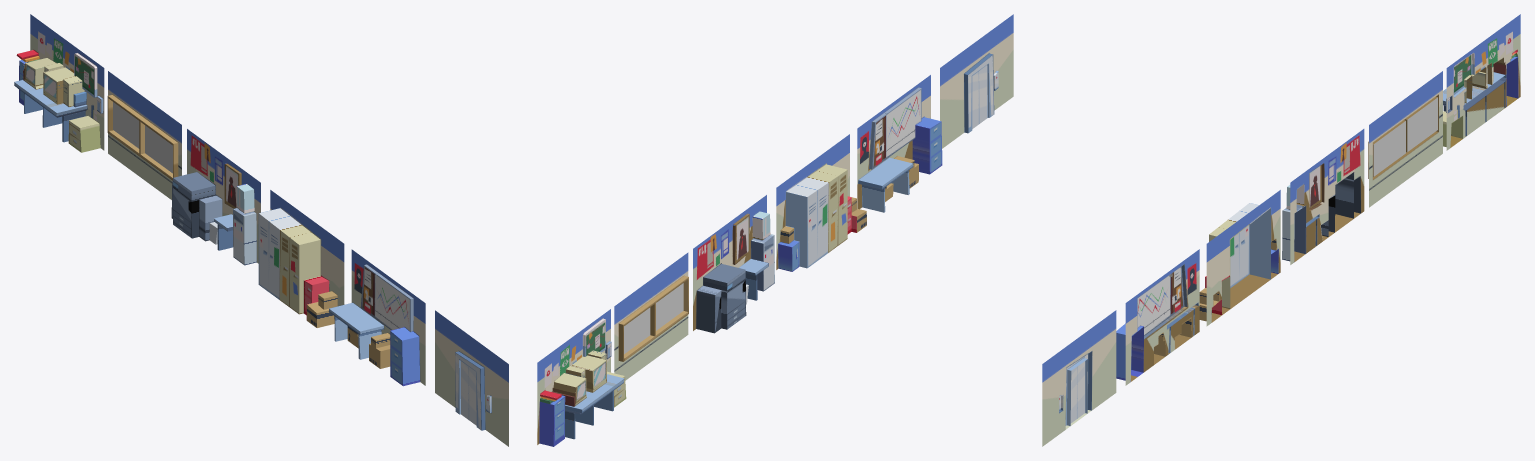
Rendered from office wall 1.fbx.
3 renders of one model, left to right at view 1: azimuth 30°, elevation 25°; view 2: azimuth 150°, elevation 25°; view 3: azimuth 330°, elevation 25°, orthographic.
Parts seen in each view (by area): view 1: office wall 4, office wall 1, office wall 3, office wall 2, office wall 6, office wall 5; view 2: office wall 4, office wall 2, office wall 3, office wall 1, office wall 6, office wall 5; view 3: office wall 4, office wall 2, office wall 3, office wall 1, office wall 6, office wall 5.
Part boxes in pixels (x1,y1,x2,y2): office wall 4: (258,190,344,327); office wall 1: (14,14,104,152); office wall 3: (328,249,425,386); office wall 2: (171,129,260,265); office wall 6: (435,310,508,446); office wall 5: (107,71,181,199); office wall 4: (776,134,866,271); office wall 2: (693,195,774,333); office wall 3: (857,75,942,212); office wall 1: (537,309,626,446); office wall 6: (940,14,1013,148); office wall 5: (614,252,688,380); office wall 4: (1199,190,1280,326); office wall 2: (1282,129,1364,264); office wall 3: (1116,249,1199,385); office wall 1: (1443,14,1520,150); office wall 6: (1042,310,1116,446); office wall 5: (1368,71,1442,207).
Bounding box in the file's own units: 76.89 × 2084 × 199.
12 materials, 6 textured.
